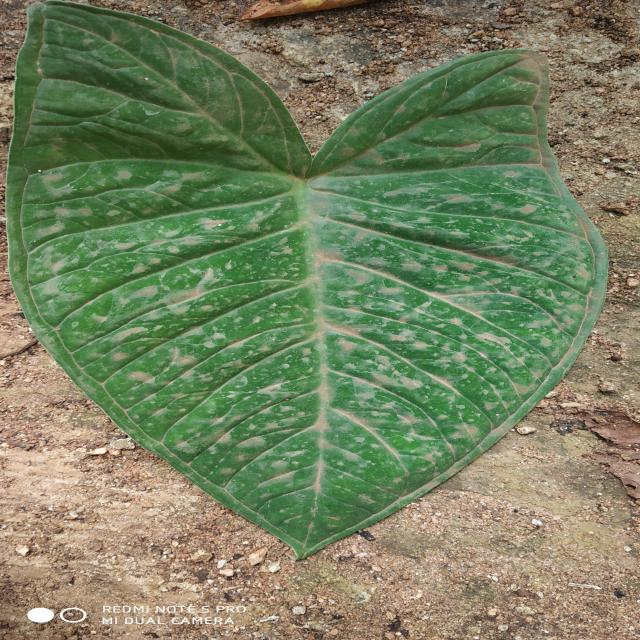defectedtaro: (20, 160, 602, 555)
taro: (9, 1, 604, 558)
